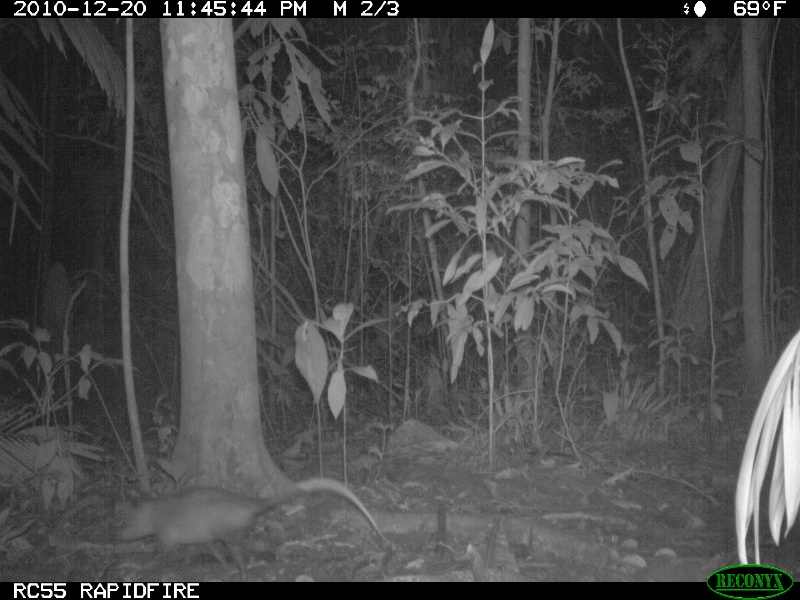opossum: (117, 476, 396, 567)
